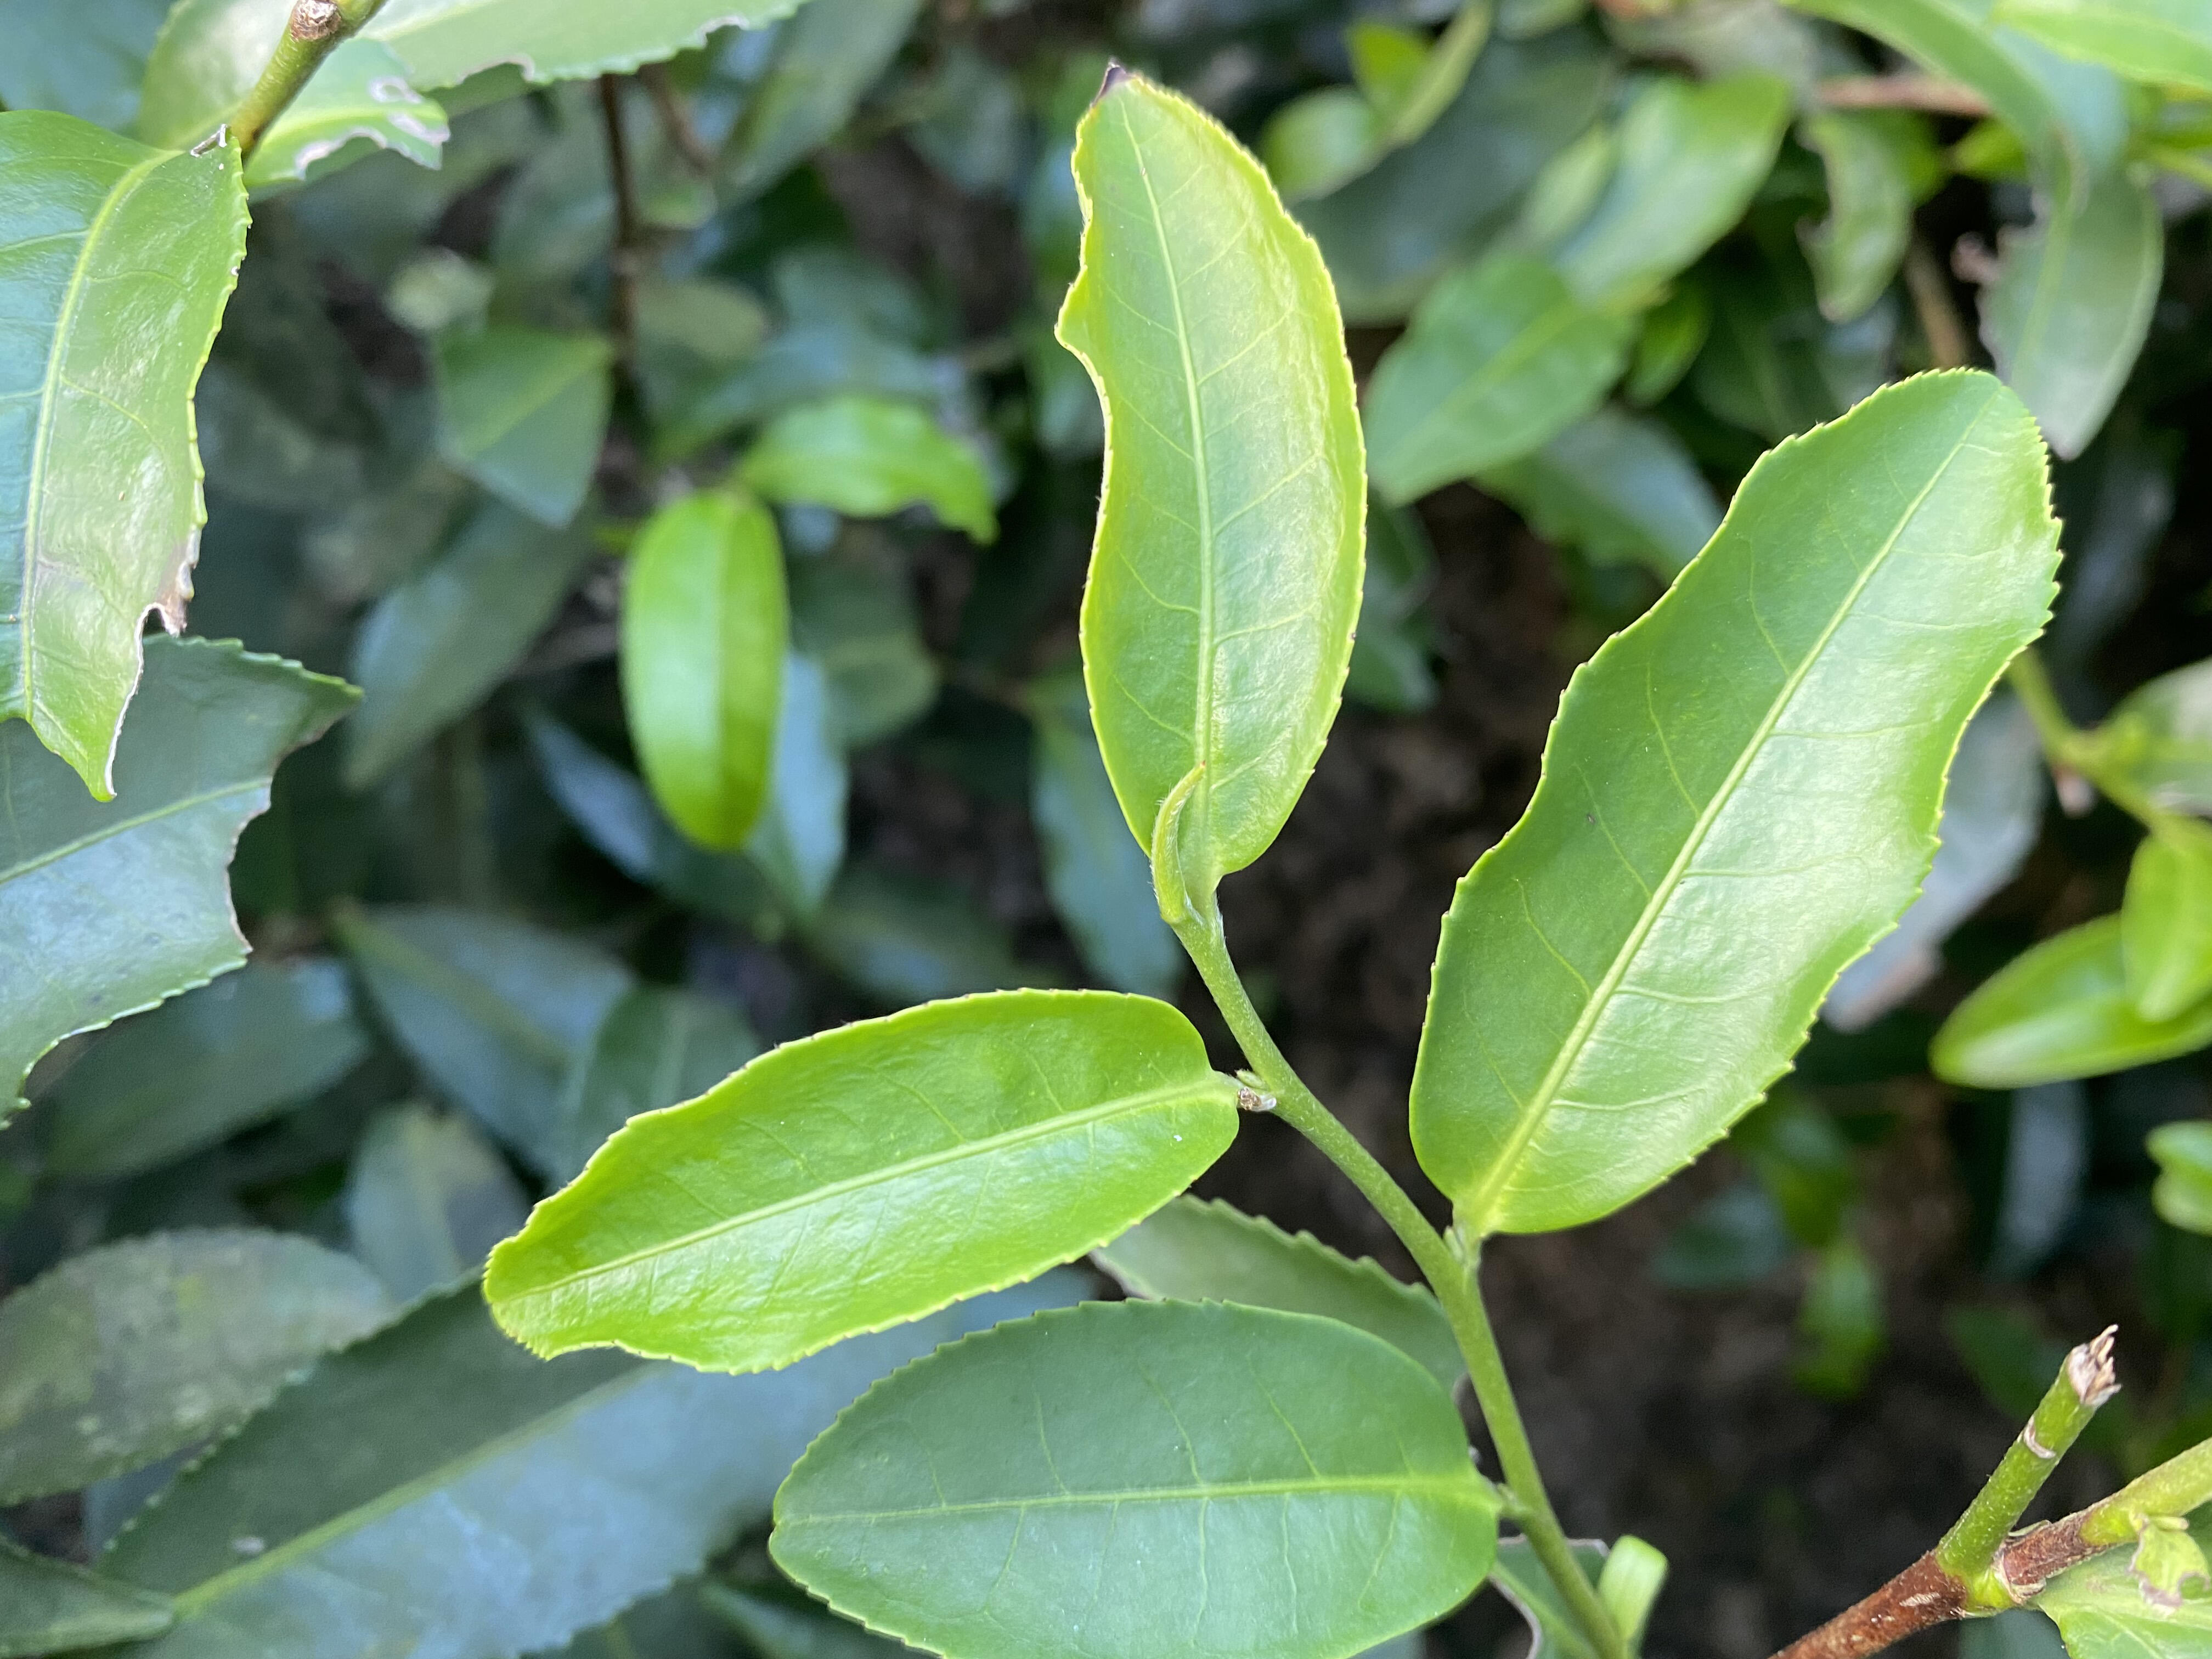chihuo_high: (2, 633, 371, 1131)
healthy: (1404, 366, 2073, 1244), (482, 983, 1244, 1378), (765, 1290, 1500, 1659)
